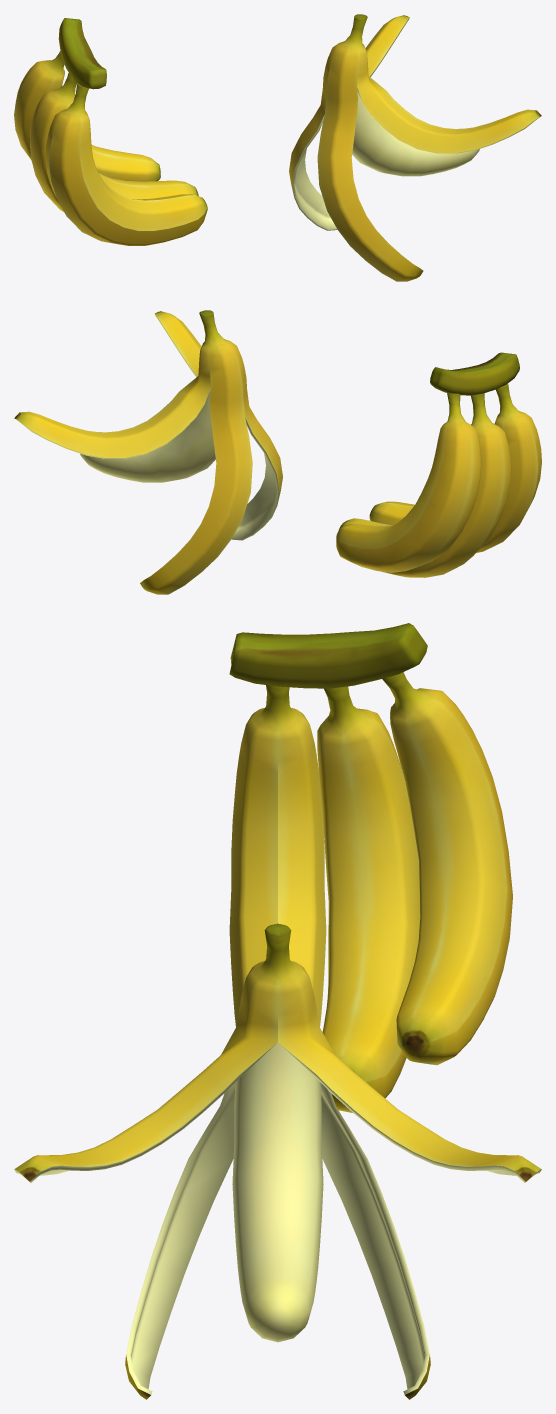
Rendered from XiangJiao.FBX.
3 views of the same model, one above another, from view 1: azimuth 30°, elevation 25°; view 2: azimuth 150°, elevation 25°; view 3: azimuth 270°, elevation 25° (orthographic). The views are drawn at different scales.
Visible parts, largest first — view 1: objObject20, XiangJiao01, XiangJiao, objObject22; view 2: objObject20, XiangJiao, XiangJiao01, objObject22; view 3: XiangJiao, objObject20, XiangJiao01, objObject22.
Part boxes in pixels (x1,y1,x2,y2): objObject20: (289,14,541,281); XiangJiao01: (45,83,207,245); XiangJiao: (14,18,198,211); objObject22: (352,92,479,176); objObject20: (14,310,282,594); XiangJiao: (336,352,519,577); XiangJiao01: (369,383,541,552); objObject22: (80,392,215,482); XiangJiao: (229,623,512,1112); objObject20: (14,923,541,1399); XiangJiao01: (229,685,326,1026); objObject22: (232,1042,323,1342).
Size of the model in its own units: 63.6 by 39.11 by 36.03.
1 material, 1 textured.
